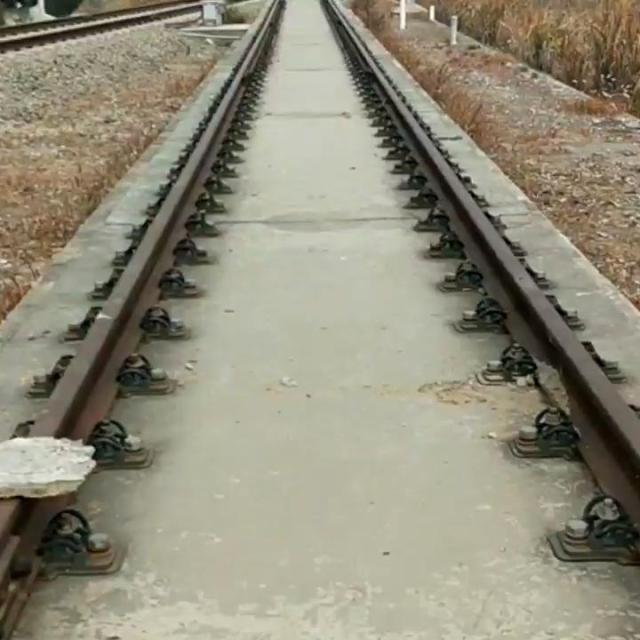rail: (324, 1, 640, 527), (32, 1, 282, 440)
